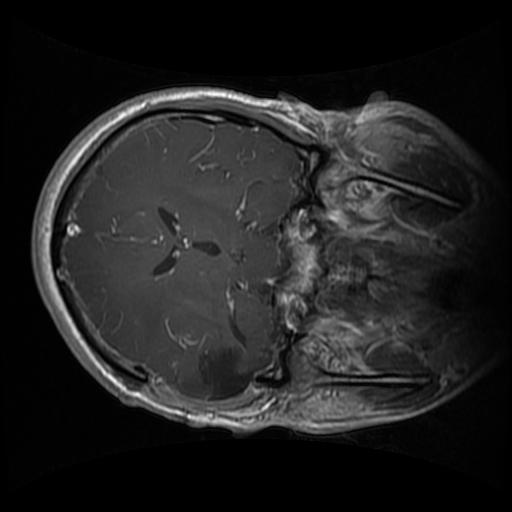glioma: (190, 341, 253, 401)
